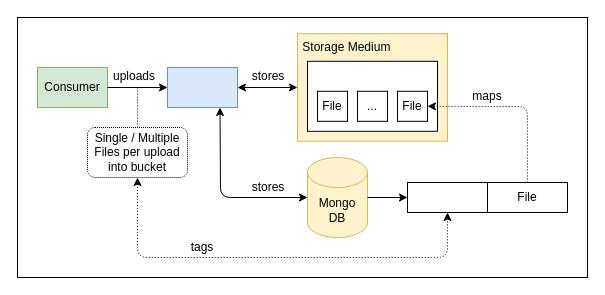
Some shapes in this 605 by 295 pixel diagram are drawn without their labels. The shapes that lost their labels are listed below. From the top down, each one's box as (x1, y1, x2, y2) in pixels, then its label:
(166, 66, 238, 108): Storage Service
(306, 60, 438, 131): Bucket
(406, 182, 488, 212): StorageI D
